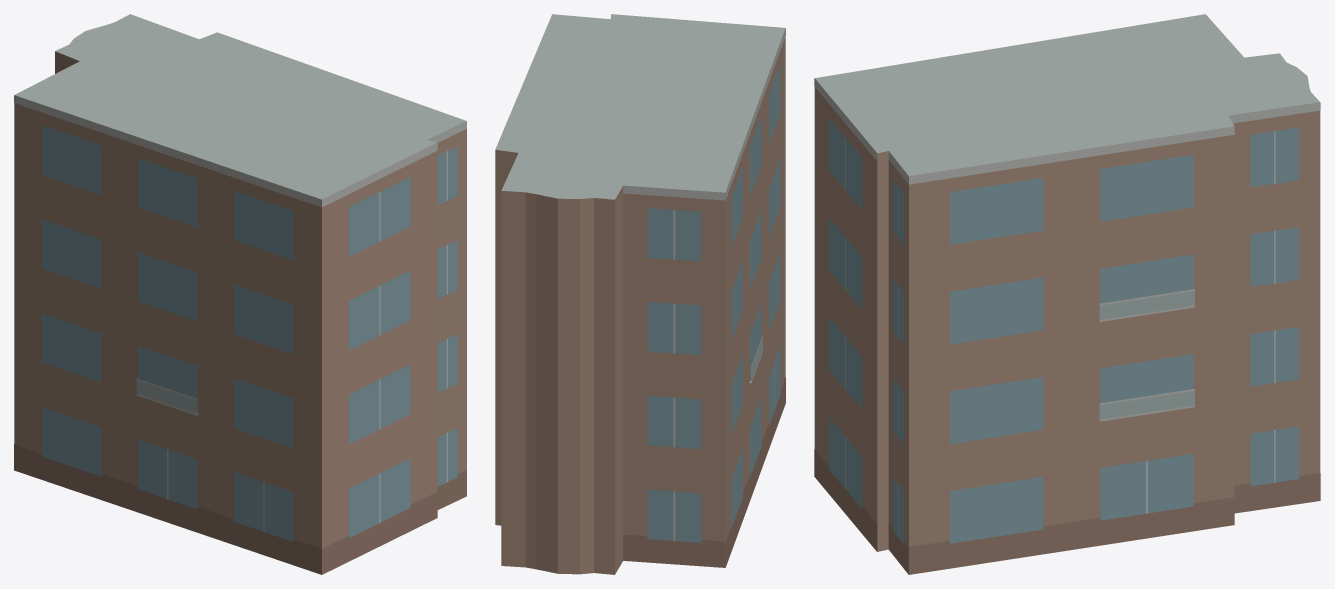
Rendered from survey-upis-32509279.glb.
3 views of the same model, side by side, from view 1: azimuth 30°, elevation 25°; view 2: azimuth 150°, elevation 25°; view 3: azimuth 270°, elevation 25° (orthographic). The views are drawn at different scales.
Visible parts, largest first — view 1: survey-upis-32509279.tmp; view 2: survey-upis-32509279.tmp; view 3: survey-upis-32509279.tmp.
Boxes of the visible parts, x1=… form: survey-upis-32509279.tmp: x1=14, y1=14, x2=466, y2=574; survey-upis-32509279.tmp: x1=495, y1=14, x2=785, y2=574; survey-upis-32509279.tmp: x1=814, y1=14, x2=1320, y2=574.
Size of the model in its own units: 10.14 by 11.6 by 13.35.
